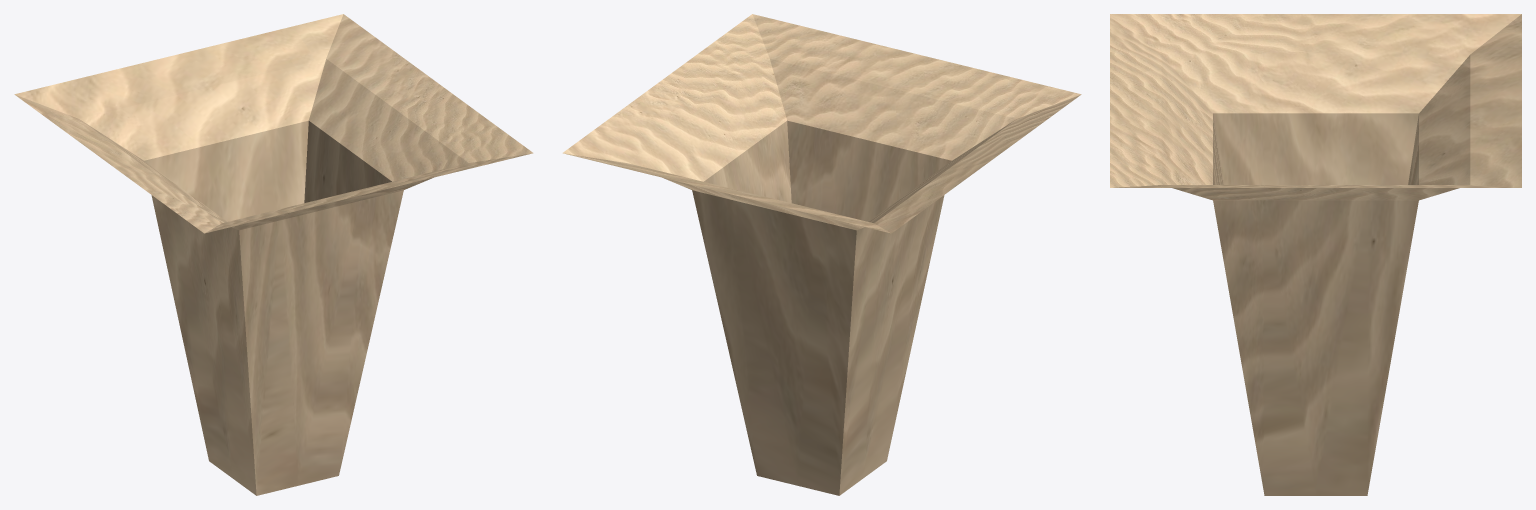
File: Sand0a.obj
3 views of the same model, side by side, from view 1: azimuth 30°, elevation 25°; view 2: azimuth 150°, elevation 25°; view 3: azimuth 270°, elevation 25° (orthographic). The views are drawn at different scales.
Parts seen in each view (by area): view 1: Grid_Grid.000; view 2: Grid_Grid.000; view 3: Grid_Grid.000.
Boxes of the visible parts, bbox=[...] form: Grid_Grid.000: bbox=[14, 14, 533, 495]; Grid_Grid.000: bbox=[562, 14, 1081, 495]; Grid_Grid.000: bbox=[1110, 14, 1521, 495].
Size of the model in its own units: 1 by 1 by 1.
